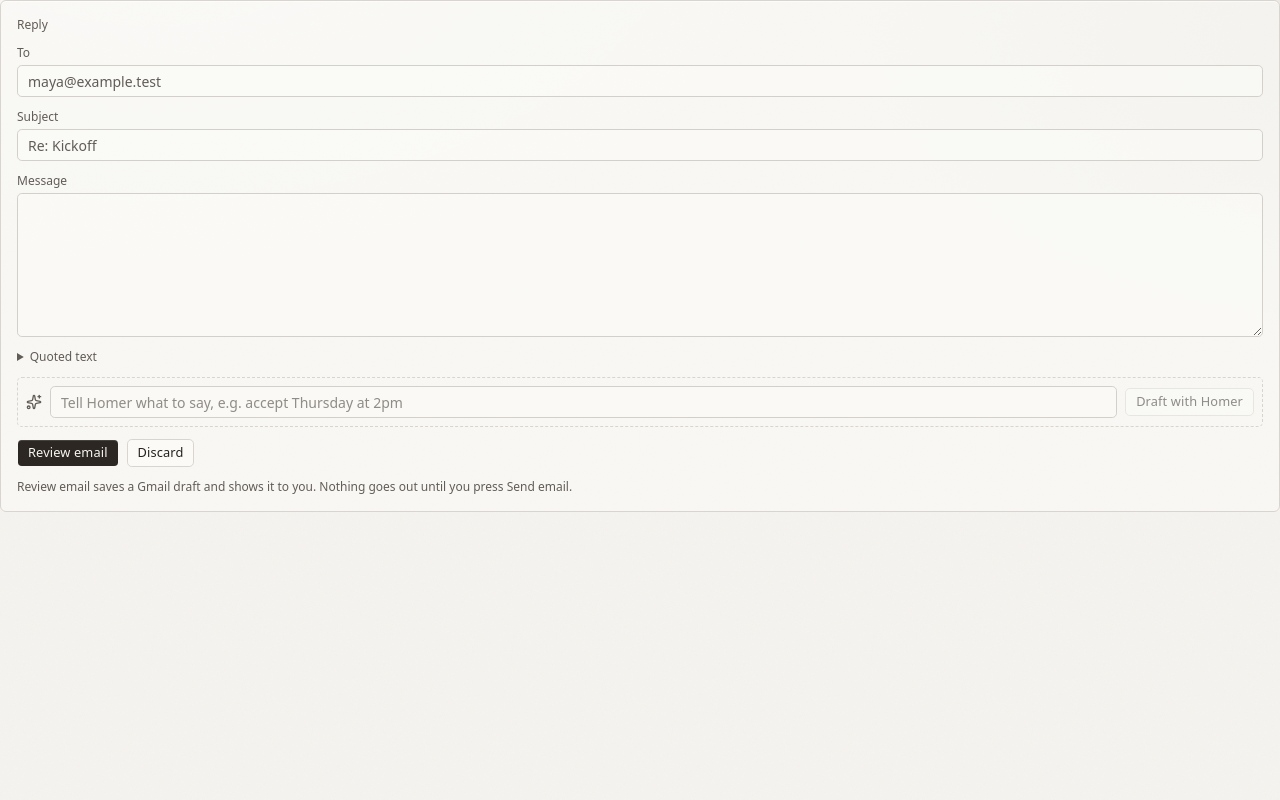
Test: MailComposer › sends text plus the quote and shows the approval card in place
Type "say Thursday works" into the field named "Instruction for Homer".
click(584, 402); type("say Thursday works")  # box [50,386,1117,418]
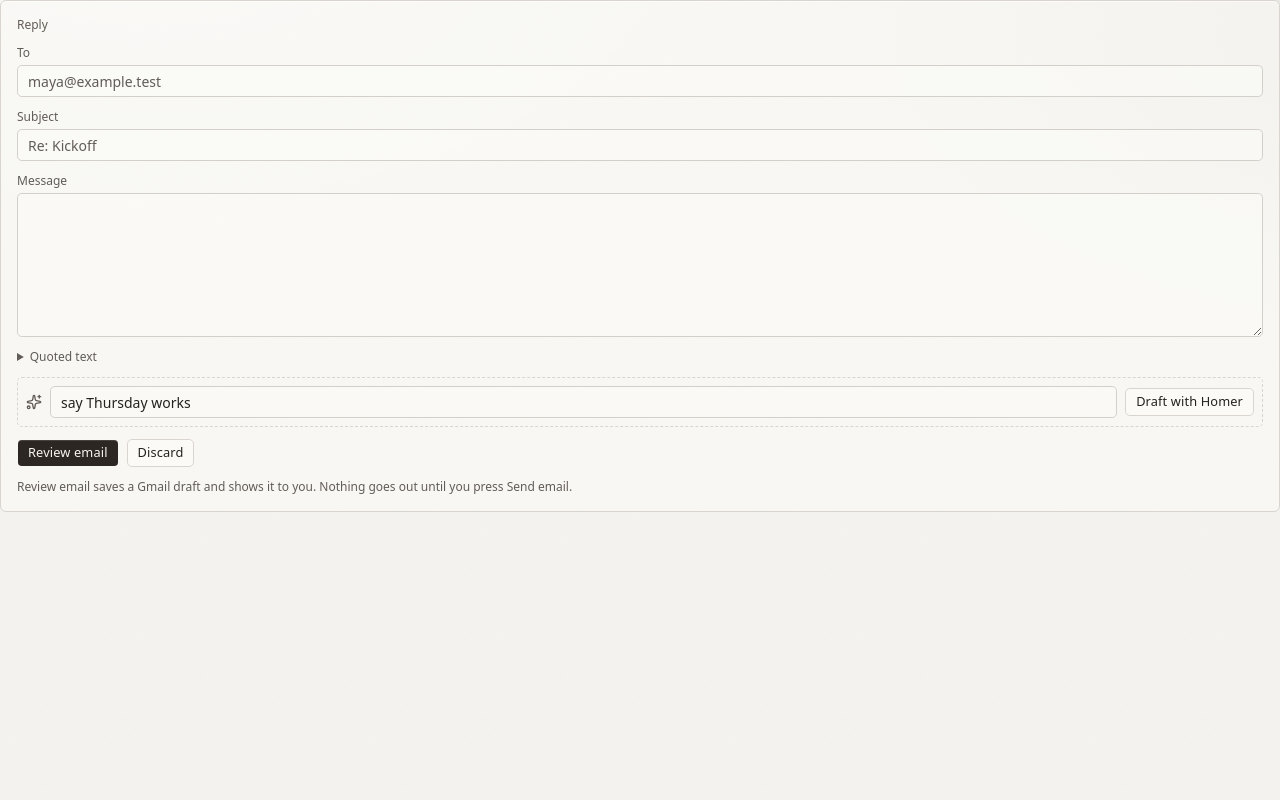
Click the button "Draft with Homer".
click(1190, 402)  # box [1125,388,1254,416]
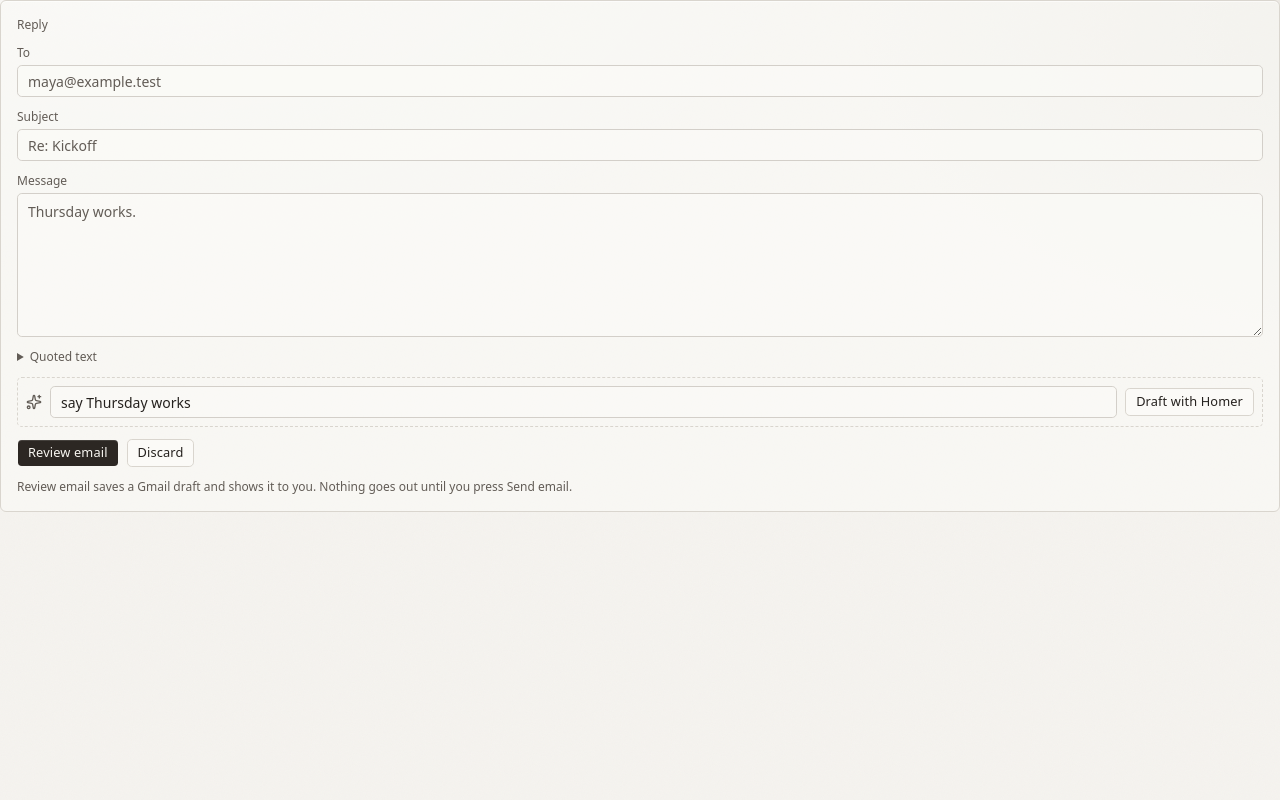
Expected: the text box showing "Thursday works." is shown, [17,193,1263,337]
Click the button "Review email".
click(68, 453)  # box [17,439,119,467]
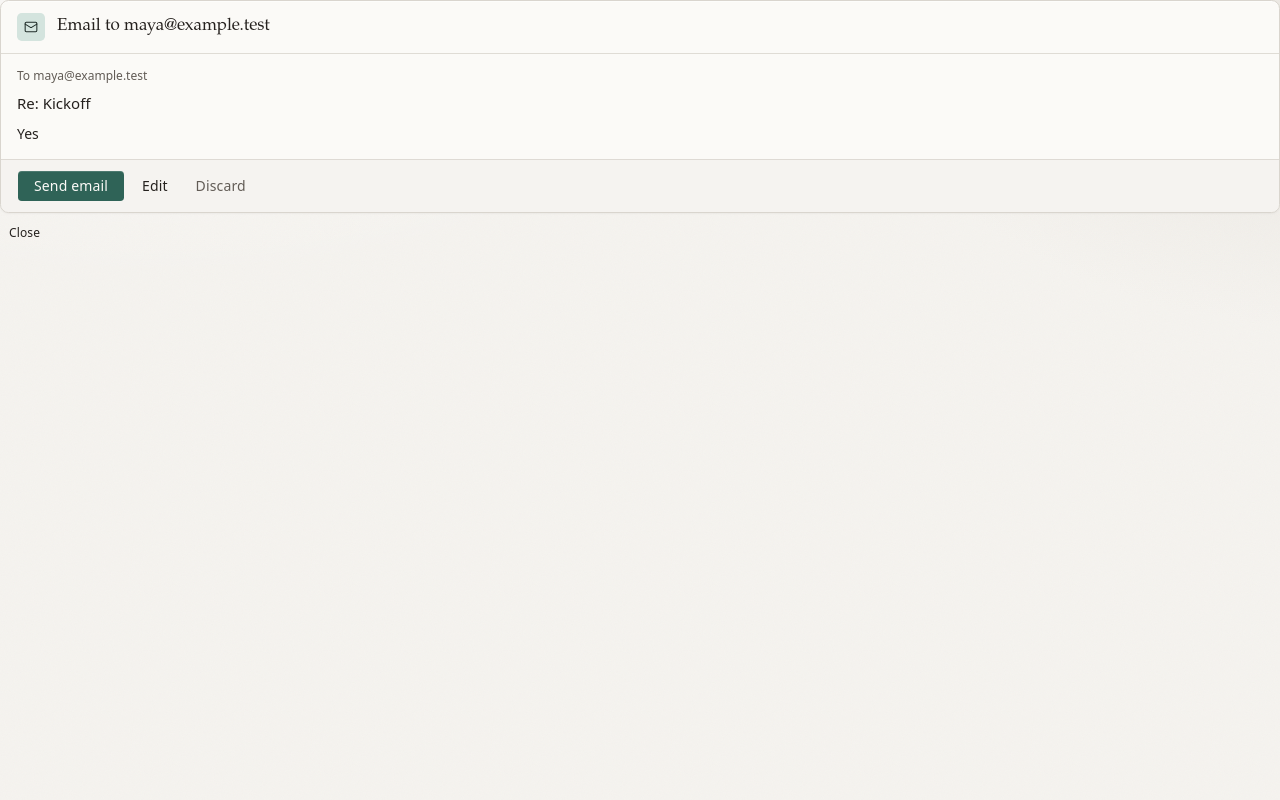
Expected: the button "Send email" is shown, [17,170,125,202]
Expected: the element with test id "approval-7" is shown, [0,0,1279,213]
Expected: the heading "Email to maya@example.test" is shown, [57,18,270,35]
